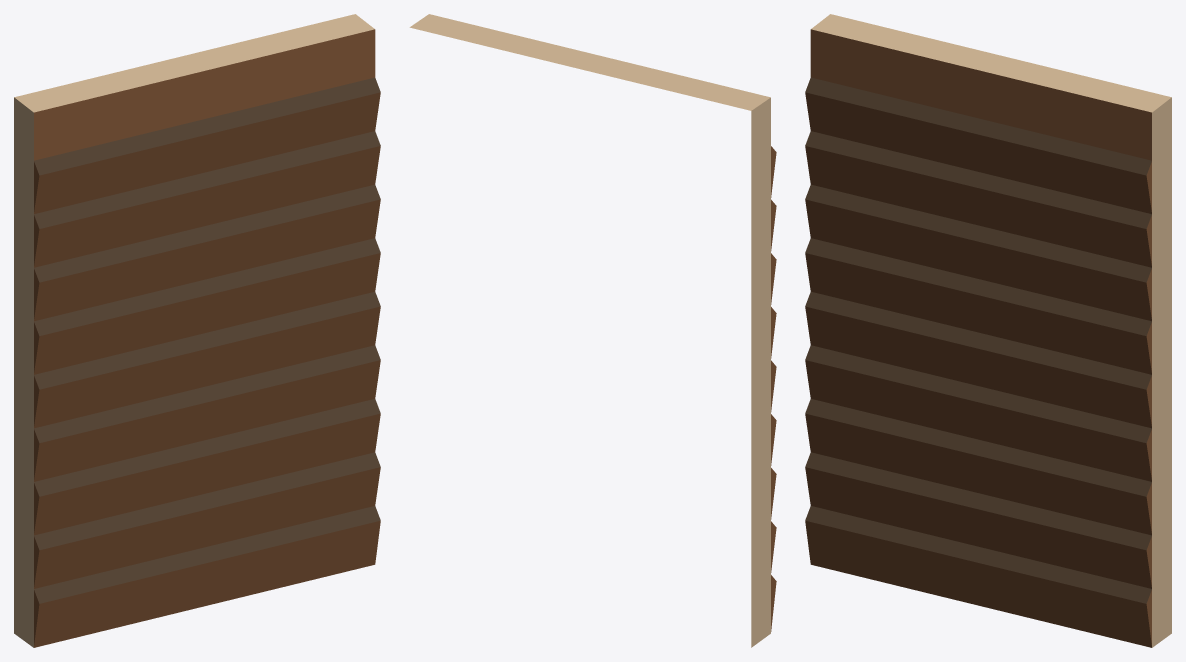
File: buildings-house-wall-wood-2x3m.glb
The picture shows the model from 3 angles, left to right: view 1: azimuth 30°, elevation 25°; view 2: azimuth 150°, elevation 25°; view 3: azimuth 330°, elevation 25°; orthographic projection.
Visible parts, largest first — view 1: house-wall-wood-2x3m; view 2: house-wall-wood-2x3m; view 3: house-wall-wood-2x3m.
Part boxes in pixels (box(x1,y1,x2,y2)): house-wall-wood-2x3m: box(14, 14, 380, 647); house-wall-wood-2x3m: box(409, 14, 776, 647); house-wall-wood-2x3m: box(805, 14, 1171, 647).
Size of the model in its own units: 2 by 3.01 by 0.2569.
